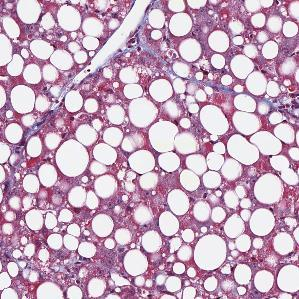fibrosis: (129, 31, 168, 70)
